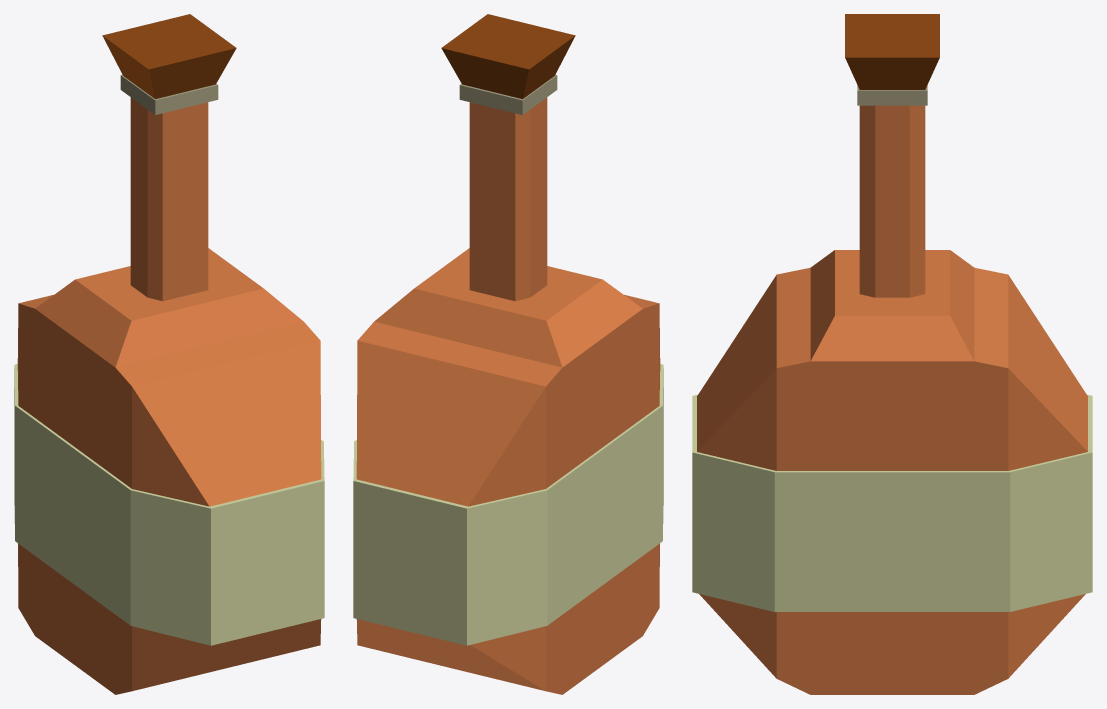
Rendered from Wine Bottle 5.fbx.
3 views of the same model, side by side, from view 1: azimuth 30°, elevation 25°; view 2: azimuth 150°, elevation 25°; view 3: azimuth 270°, elevation 25° (orthographic).
Visible parts, largest first — view 1: Wine Bottle 5; view 2: Wine Bottle 5; view 3: Wine Bottle 5.
Boxes of the visible parts, left/top/right/bottom form: Wine Bottle 5: left=14, top=14, right=324, bottom=694; Wine Bottle 5: left=353, top=14, right=663, bottom=694; Wine Bottle 5: left=692, top=14, right=1092, bottom=694.
Bounding box in the file's own units: 0.3031 × 0.9013 × 0.5345.
